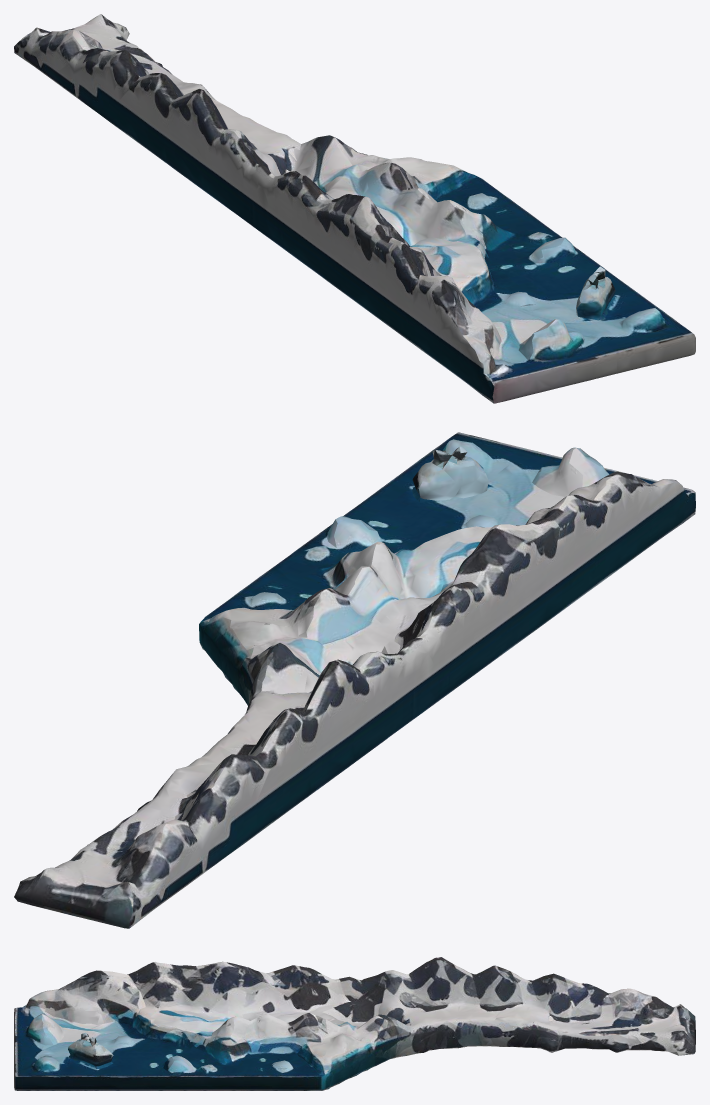
The model's file is antarctic-peninsula.glb.
3 views of the same model, one above another, from view 1: azimuth 30°, elevation 25°; view 2: azimuth 150°, elevation 25°; view 3: azimuth 270°, elevation 25° (orthographic). The views are drawn at different scales.
Visible parts, largest first — view 1: logan-textured.obj; view 2: logan-textured.obj; view 3: logan-textured.obj.
Part boxes in pixels (box(x1,y1,x2,y2)): logan-textured.obj: box(14, 14, 695, 403); logan-textured.obj: box(14, 432, 695, 928); logan-textured.obj: box(14, 957, 695, 1090).
Size of the model in its own units: 0.2476 by 0.1083 by 1.
1 material, 1 textured.
